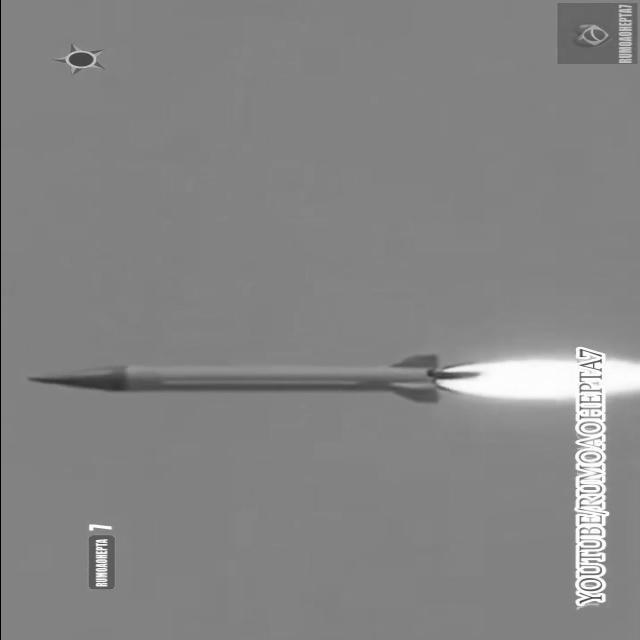Missile: (9, 346, 476, 408)
